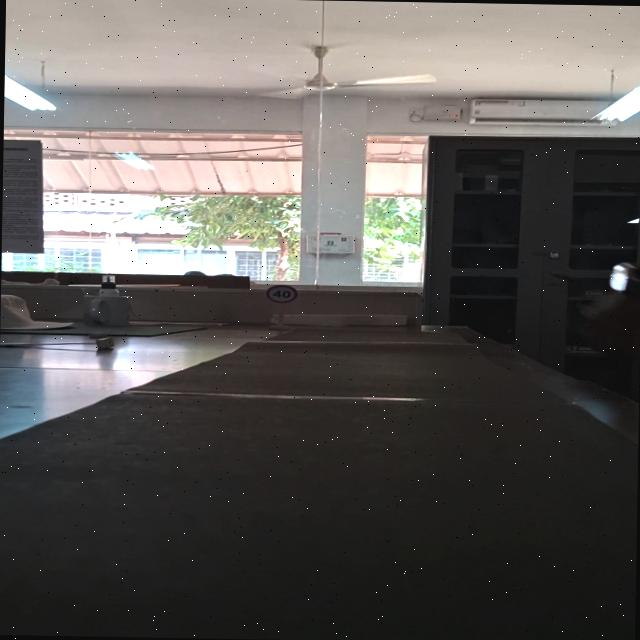Speed40: (265, 284, 298, 304)
